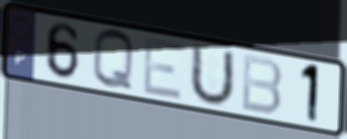1: (296, 62, 322, 128)
6: (44, 20, 84, 83)
B: (239, 51, 285, 117)
E: (141, 35, 186, 102)
Q: (90, 26, 137, 94)
U: (187, 41, 237, 109)
